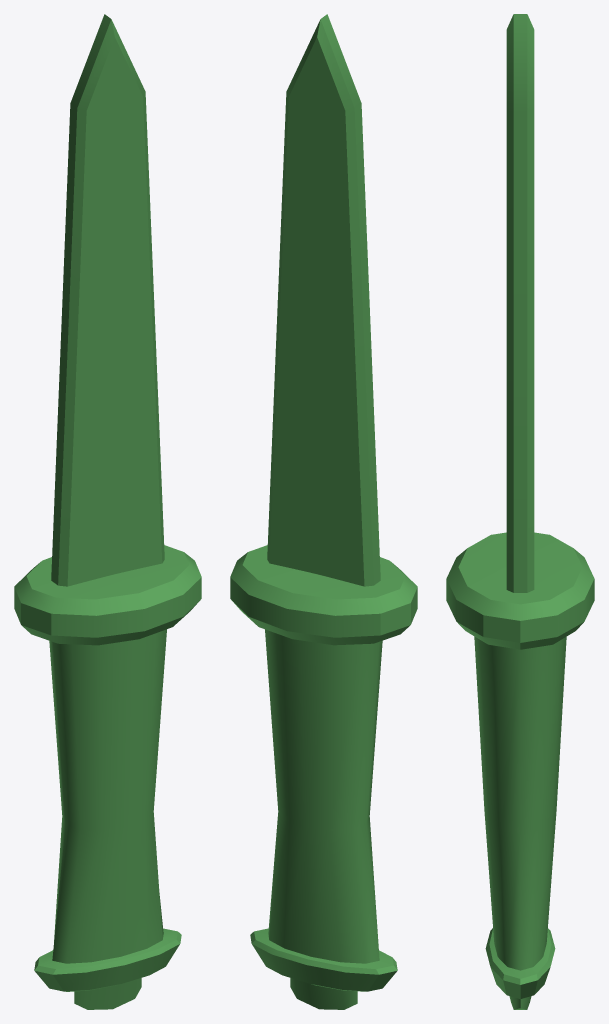
The model's file is Sword_4.fbx.
3 renders of one model, left to right at view 1: azimuth 30°, elevation 25°; view 2: azimuth 150°, elevation 25°; view 3: azimuth 270°, elevation 25°, orthographic.
Visible parts, largest first — view 1: M4; view 2: M4; view 3: M4.
Boxes of the visible parts, box(x1,y1,x2,y2) form: M4: box(14, 14, 201, 1009); M4: box(230, 14, 417, 1009); M4: box(446, 14, 594, 1009).
Bounding box in the file's own units: 38.05 × 207 × 28.1.
